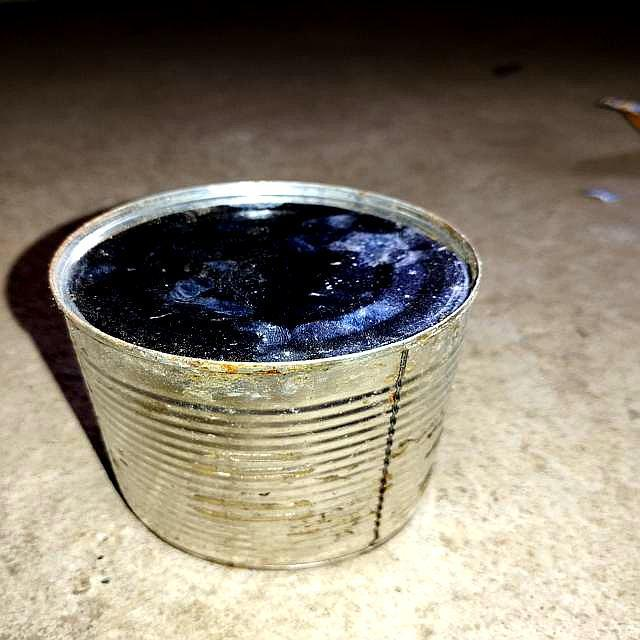Non-biodegradable: (48, 178, 484, 572)
